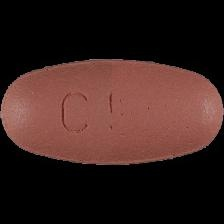65597-118: (0, 0, 224, 224)
